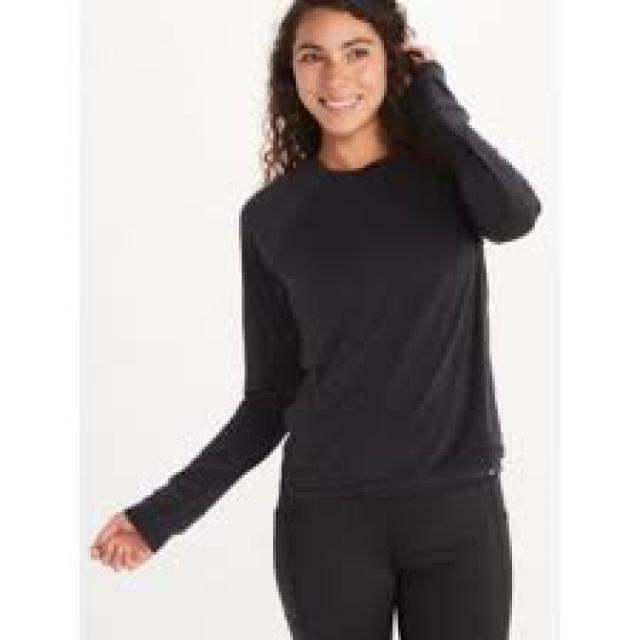plain: (122, 109, 585, 503)
